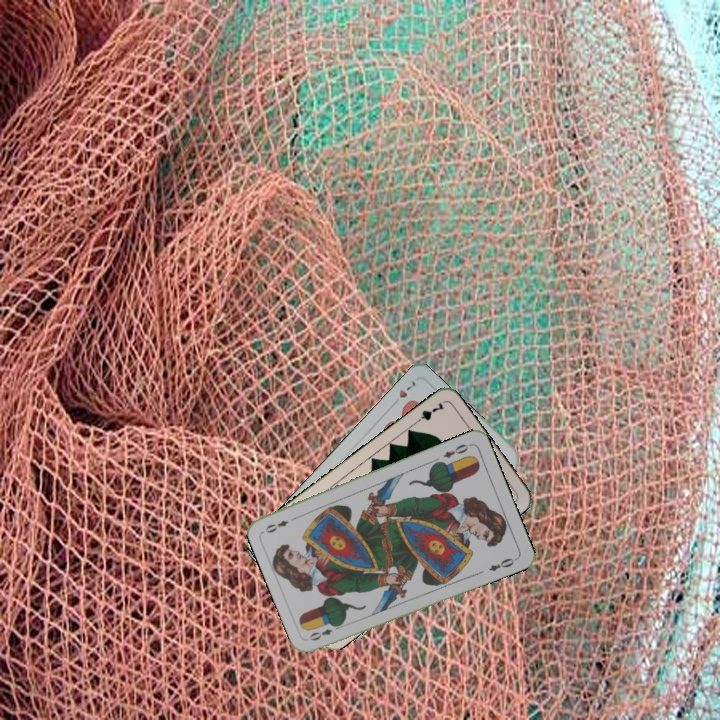EO: (305, 621, 344, 643), (439, 440, 473, 460)
G7: (410, 398, 447, 427)
H7: (388, 376, 418, 409)
